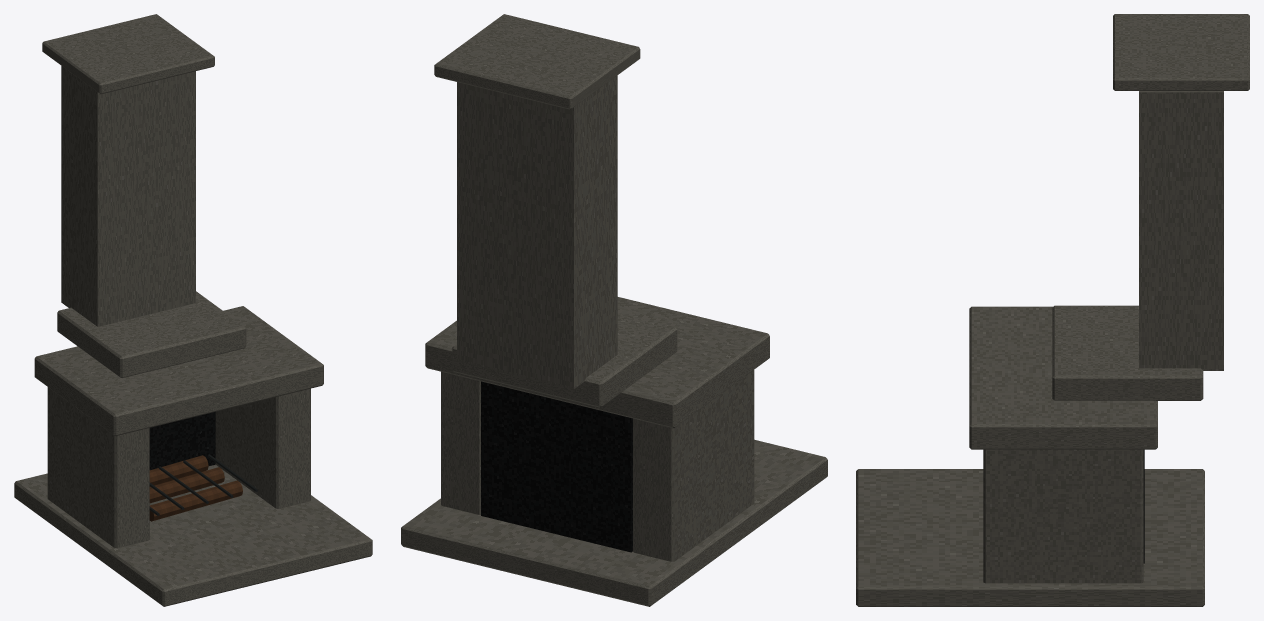
File: level_camp_pavilion_fireplace.glb
3 renders of one model, left to right at view 1: azimuth 30°, elevation 25°; view 2: azimuth 150°, elevation 25°; view 3: azimuth 270°, elevation 25°, orthographic. The views are drawn at different scales.
Visible parts, largest first — view 1: level_camp_pavilion_fireplace; view 2: level_camp_pavilion_fireplace; view 3: level_camp_pavilion_fireplace.
Part boxes in pixels (bbox=[...]): level_camp_pavilion_fireplace: bbox=[14, 14, 372, 606]; level_camp_pavilion_fireplace: bbox=[401, 14, 827, 606]; level_camp_pavilion_fireplace: bbox=[856, 14, 1249, 606].
Size of the model in its own units: 3 by 5.88 by 4.17.
4 materials, 4 textured.
